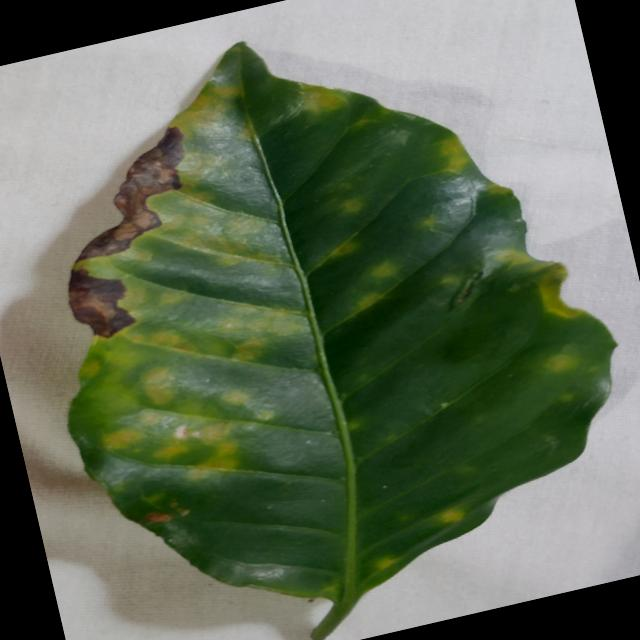KaratDaunKopi: (143, 368, 174, 403), (440, 134, 470, 170), (103, 429, 144, 448), (325, 239, 358, 259), (546, 354, 576, 370), (371, 261, 396, 276), (223, 390, 249, 404), (440, 508, 464, 522), (341, 199, 363, 212), (375, 556, 396, 569)
